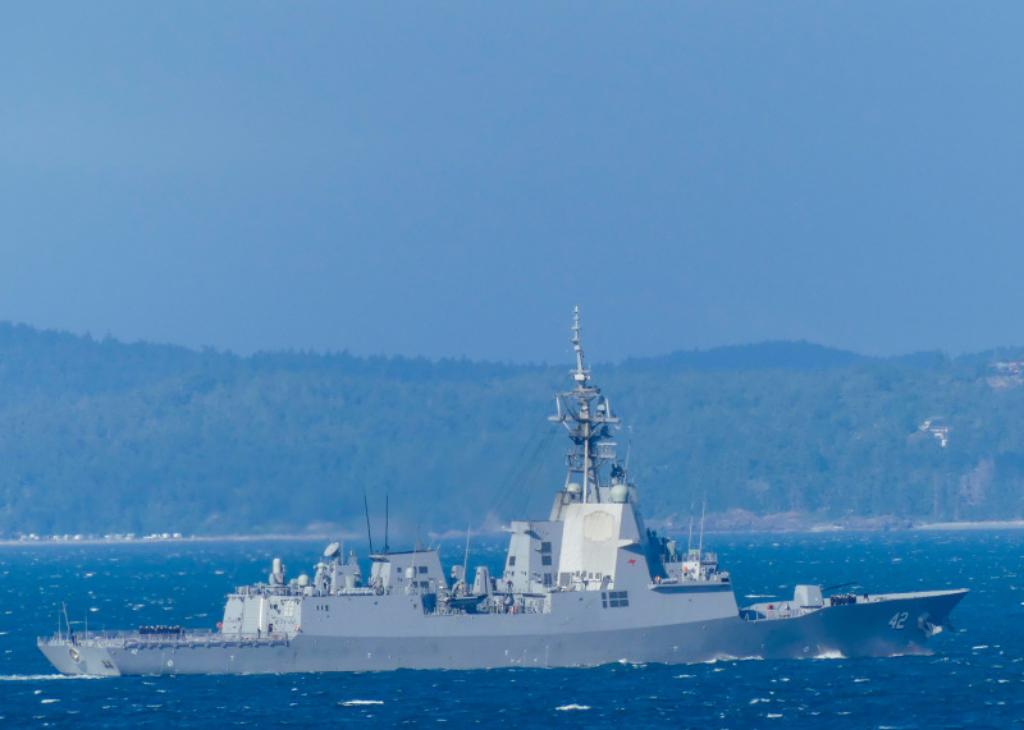Warship: (32, 294, 972, 687)
